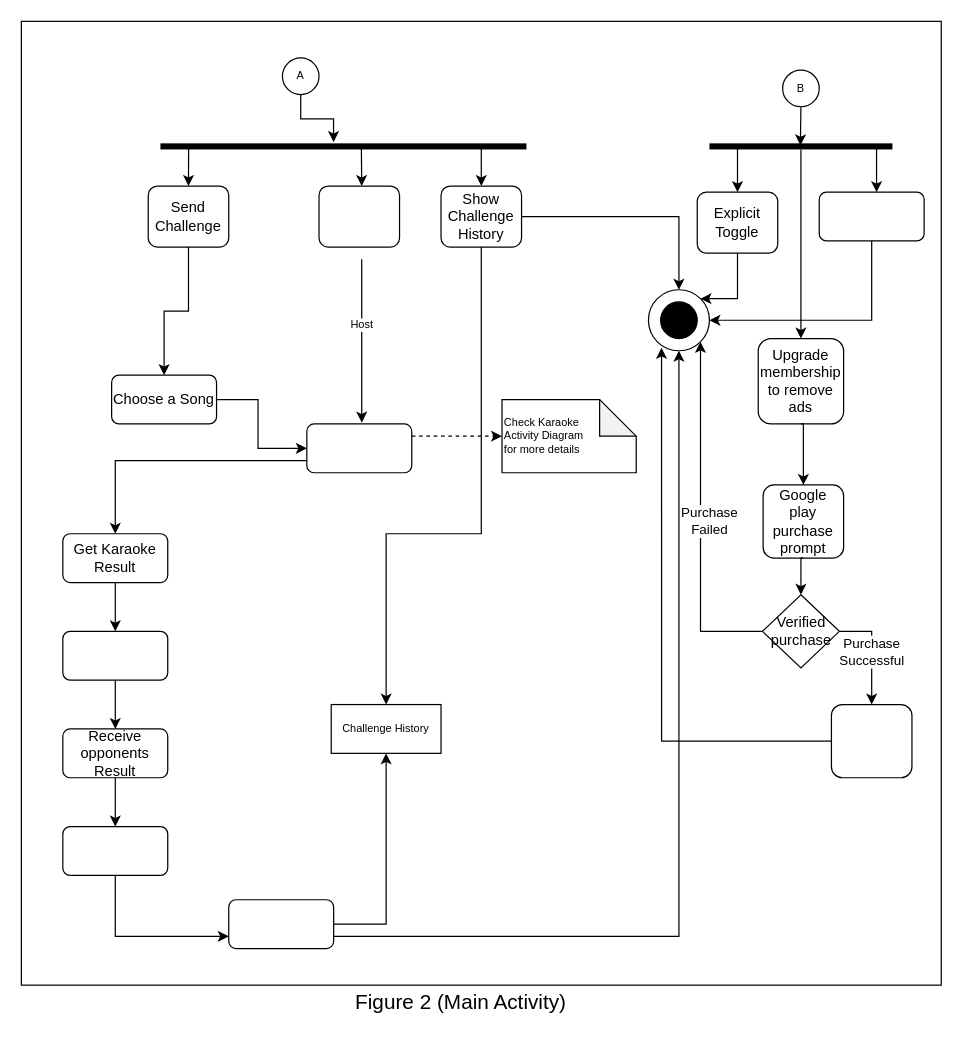
Some shapes in this 963 by 1043 pixel diagram are drawn without their labels. Here are the shapes that lost their labels. From the top down, the centre of each, then its label:
point (359, 216): Receive Challenge
point (871, 216): Set Favorite Genre
point (359, 448): Karaoke Activity
point (115, 655): Wait for opponents Result
point (871, 740): Upgrade account to Pro
point (115, 850): Calculate Challenge Result
point (281, 924): Save Challenge Result
